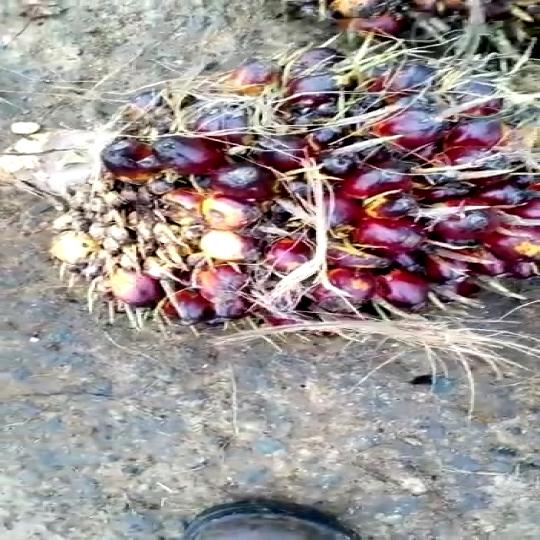kurang masak: (0, 55, 540, 340)
